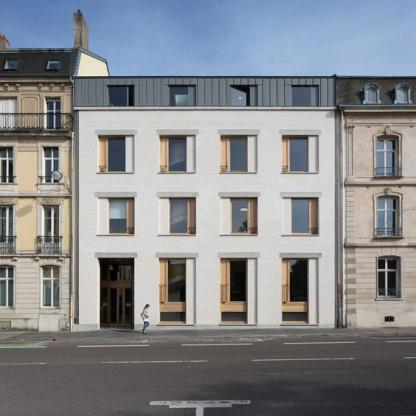Building Outline: (72, 75, 336, 332)
Cornice: (280, 253, 322, 258), (95, 253, 137, 258), (157, 253, 199, 258), (218, 253, 260, 258), (280, 129, 322, 134), (95, 129, 137, 134), (157, 129, 199, 134), (218, 129, 260, 134), (280, 192, 322, 197), (95, 192, 137, 197), (157, 192, 199, 197), (218, 192, 260, 197)
Door: (98, 257, 134, 330)
Facade: (72, 75, 336, 333)
Floor Slab: (79, 240, 334, 245), (79, 111, 334, 116), (79, 180, 334, 184)
Roof: (73, 76, 336, 107)
Window: (159, 258, 187, 324), (220, 258, 248, 324), (282, 258, 308, 324), (159, 135, 187, 172), (220, 135, 248, 172), (230, 198, 257, 235), (281, 135, 308, 172), (98, 135, 125, 172), (292, 198, 318, 235), (108, 198, 134, 235), (170, 198, 196, 235), (168, 258, 187, 302), (229, 258, 248, 302), (290, 258, 308, 302), (109, 198, 128, 233), (289, 137, 308, 172), (170, 198, 188, 233), (291, 198, 309, 233), (169, 137, 187, 172), (108, 137, 125, 172), (230, 137, 247, 172), (292, 85, 320, 106), (107, 85, 135, 106), (168, 85, 196, 106), (230, 85, 258, 106), (232, 198, 248, 233)
